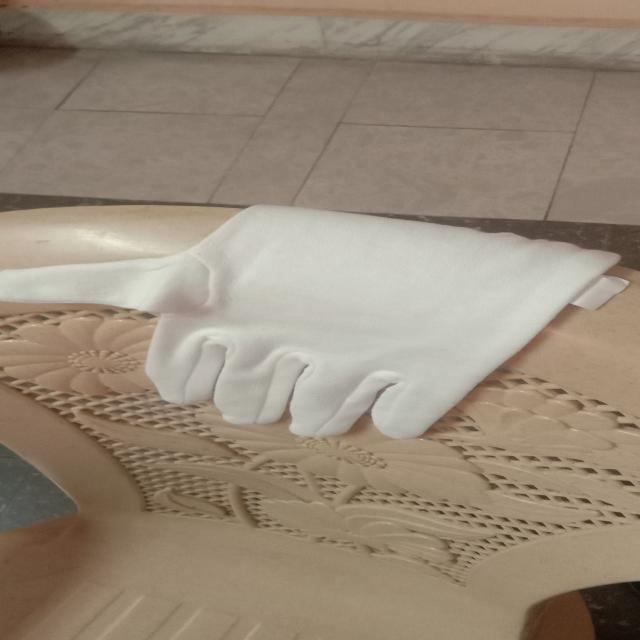glove_hand: (0, 181, 629, 435)
